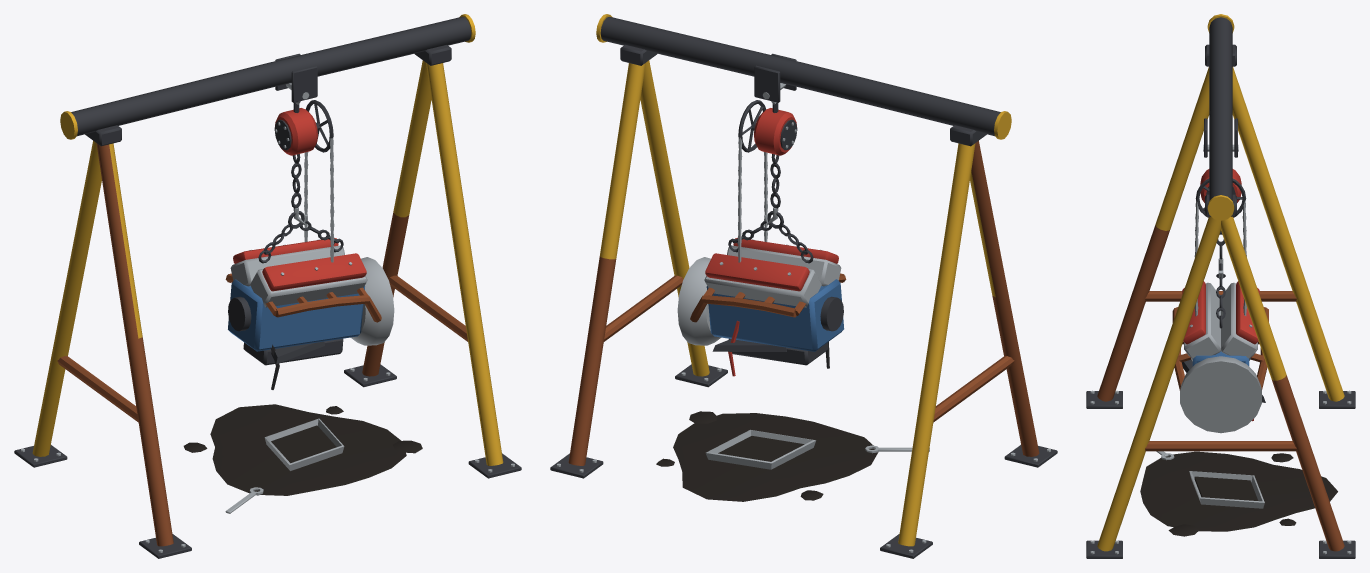
Rendered from deco_salvage_chain_hoist.fbx.
3 renders of one model, left to right at view 1: azimuth 30°, elevation 25°; view 2: azimuth 150°, elevation 25°; view 3: azimuth 270°, elevation 25°, orthographic. The views are drawn at different scales.
Visible parts, largest first — view 1: Salvage_ChainHoist_Frame, Salvage_ChainHoist_EngineBlock, Salvage_ChainHoist_Stain, Salvage_ChainHoist_Hoist, Salvage_ChainHoist_DripTray, Salvage_ChainHoist_Chain; view 2: Salvage_ChainHoist_Frame, Salvage_ChainHoist_EngineBlock, Salvage_ChainHoist_Stain, Salvage_ChainHoist_Hoist, Salvage_ChainHoist_DripTray, Salvage_ChainHoist_Chain; view 3: Salvage_ChainHoist_Frame, Salvage_ChainHoist_EngineBlock, Salvage_ChainHoist_Stain, Salvage_ChainHoist_DripTray, Salvage_ChainHoist_Hoist, Salvage_ChainHoist_Chain.
Part boxes in pixels (<box>): Salvage_ChainHoist_Frame: <box>14,14,521,558</box>; Salvage_ChainHoist_EngineBlock: <box>225,238,394,389</box>; Salvage_ChainHoist_Stain: <box>183,404,422,495</box>; Salvage_ChainHoist_Hoist: <box>274,100,334,262</box>; Salvage_ChainHoist_DripTray: <box>225,418,344,513</box>; Salvage_ChainHoist_Chain: <box>264,154,338,254</box>; Salvage_ChainHoist_Frame: <box>550,14,1057,558</box>; Salvage_ChainHoist_EngineBlock: <box>677,237,846,376</box>; Salvage_ChainHoist_Stain: <box>656,411,878,501</box>; Salvage_ChainHoist_Hoist: <box>738,100,797,262</box>; Salvage_ChainHoist_DripTray: <box>705,429,929,469</box>; Salvage_ChainHoist_Chain: <box>733,154,807,254</box>; Salvage_ChainHoist_Frame: <box>1086,14,1355,558</box>; Salvage_ChainHoist_EngineBlock: <box>1172,281,1268,433</box>; Salvage_ChainHoist_Stain: <box>1140,451,1337,536</box>; Salvage_ChainHoist_DripTray: <box>1156,451,1264,508</box>; Salvage_ChainHoist_Hoist: <box>1194,169,1246,316</box>; Salvage_ChainHoist_Chain: <box>1216,231,1225,319</box>.
Bounding box in the file's own units: 353 × 335 × 220.
